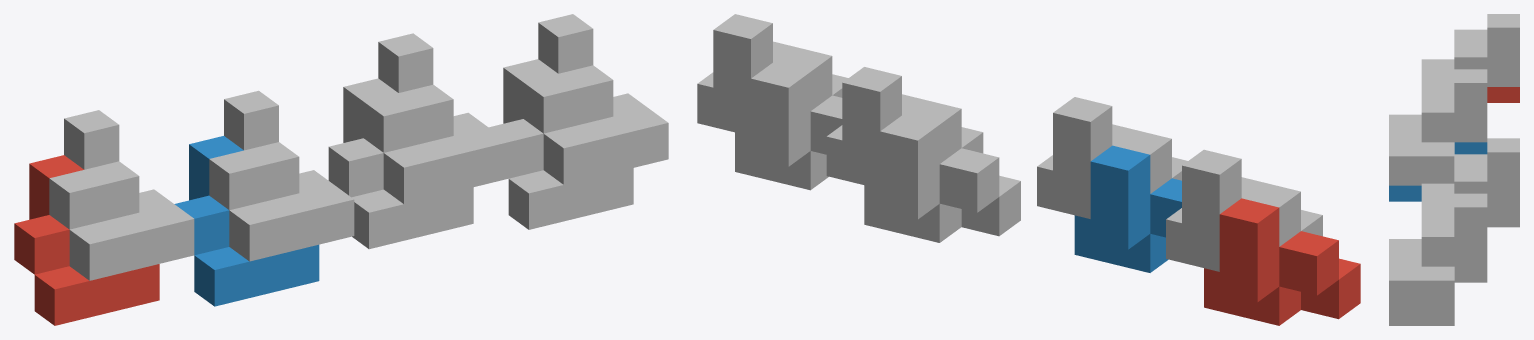
Rendered from tiling.obj.
3 renders of one model, left to right at view 1: azimuth 30°, elevation 25°; view 2: azimuth 150°, elevation 25°; view 3: azimuth 270°, elevation 25°, orthographic. The views are drawn at different scales.
Visible parts, largest first — view 1: copy_1_domain_7, copy_1_domain_8, copy_1_domain_3, copy_1_domain_4, copy_1_domain_1, copy_1_domain_5, copy_1_domain_6, copy_1_domain_2; view 2: copy_1_domain_1, copy_1_domain_5, copy_1_domain_2, copy_1_domain_6, copy_1_domain_7, copy_1_domain_3, copy_1_domain_8, copy_1_domain_4; view 3: copy_1_domain_8, copy_1_domain_4, copy_1_domain_7, copy_1_domain_3, copy_1_domain_6, copy_1_domain_2, copy_1_domain_5, copy_1_domain_1.
Part boxes in pixels (x1=…): copy_1_domain_7: x1=363, y1=33, x2=508, y2=203; copy_1_domain_8: x1=523, y1=14, x2=668, y2=184; copy_1_domain_3: x1=49, y1=110, x2=194, y2=280; copy_1_domain_4: x1=209, y1=90, x2=354, y2=261; copy_1_domain_1: x1=14, y1=155, x2=159, y2=325; copy_1_domain_5: x1=328, y1=78, x2=473, y2=249; copy_1_domain_6: x1=489, y1=59, x2=633, y2=229; copy_1_domain_2: x1=174, y1=136, x2=319, y2=306; copy_1_domain_1: x1=1204, y1=198, x2=1360, y2=325; copy_1_domain_5: x1=864, y1=115, x2=1020, y2=242; copy_1_domain_2: x1=1074, y1=145, x2=1181, y2=272; copy_1_domain_6: x1=735, y1=63, x2=842, y2=190; copy_1_domain_7: x1=826, y1=67, x2=983, y2=188; copy_1_domain_3: x1=1166, y1=149, x2=1322, y2=271; copy_1_domain_8: x1=697, y1=14, x2=848, y2=136; copy_1_domain_4: x1=1037, y1=97, x2=1187, y2=218; copy_1_domain_8: x1=1389, y1=193, x2=1487, y2=310; copy_1_domain_4: x1=1389, y1=69, x2=1487, y2=185; copy_1_domain_7: x1=1421, y1=138, x2=1519, y2=211; copy_1_domain_3: x1=1421, y1=14, x2=1519, y2=86; copy_1_domain_6: x1=1389, y1=266, x2=1487, y2=325; copy_1_domain_2: x1=1389, y1=142, x2=1487, y2=201; copy_1_domain_5: x1=1487, y1=211, x2=1519, y2=227; copy_1_domain_1: x1=1487, y1=87, x2=1519, y2=102.
Size of the model in its own units: 17 by 4 by 4.
